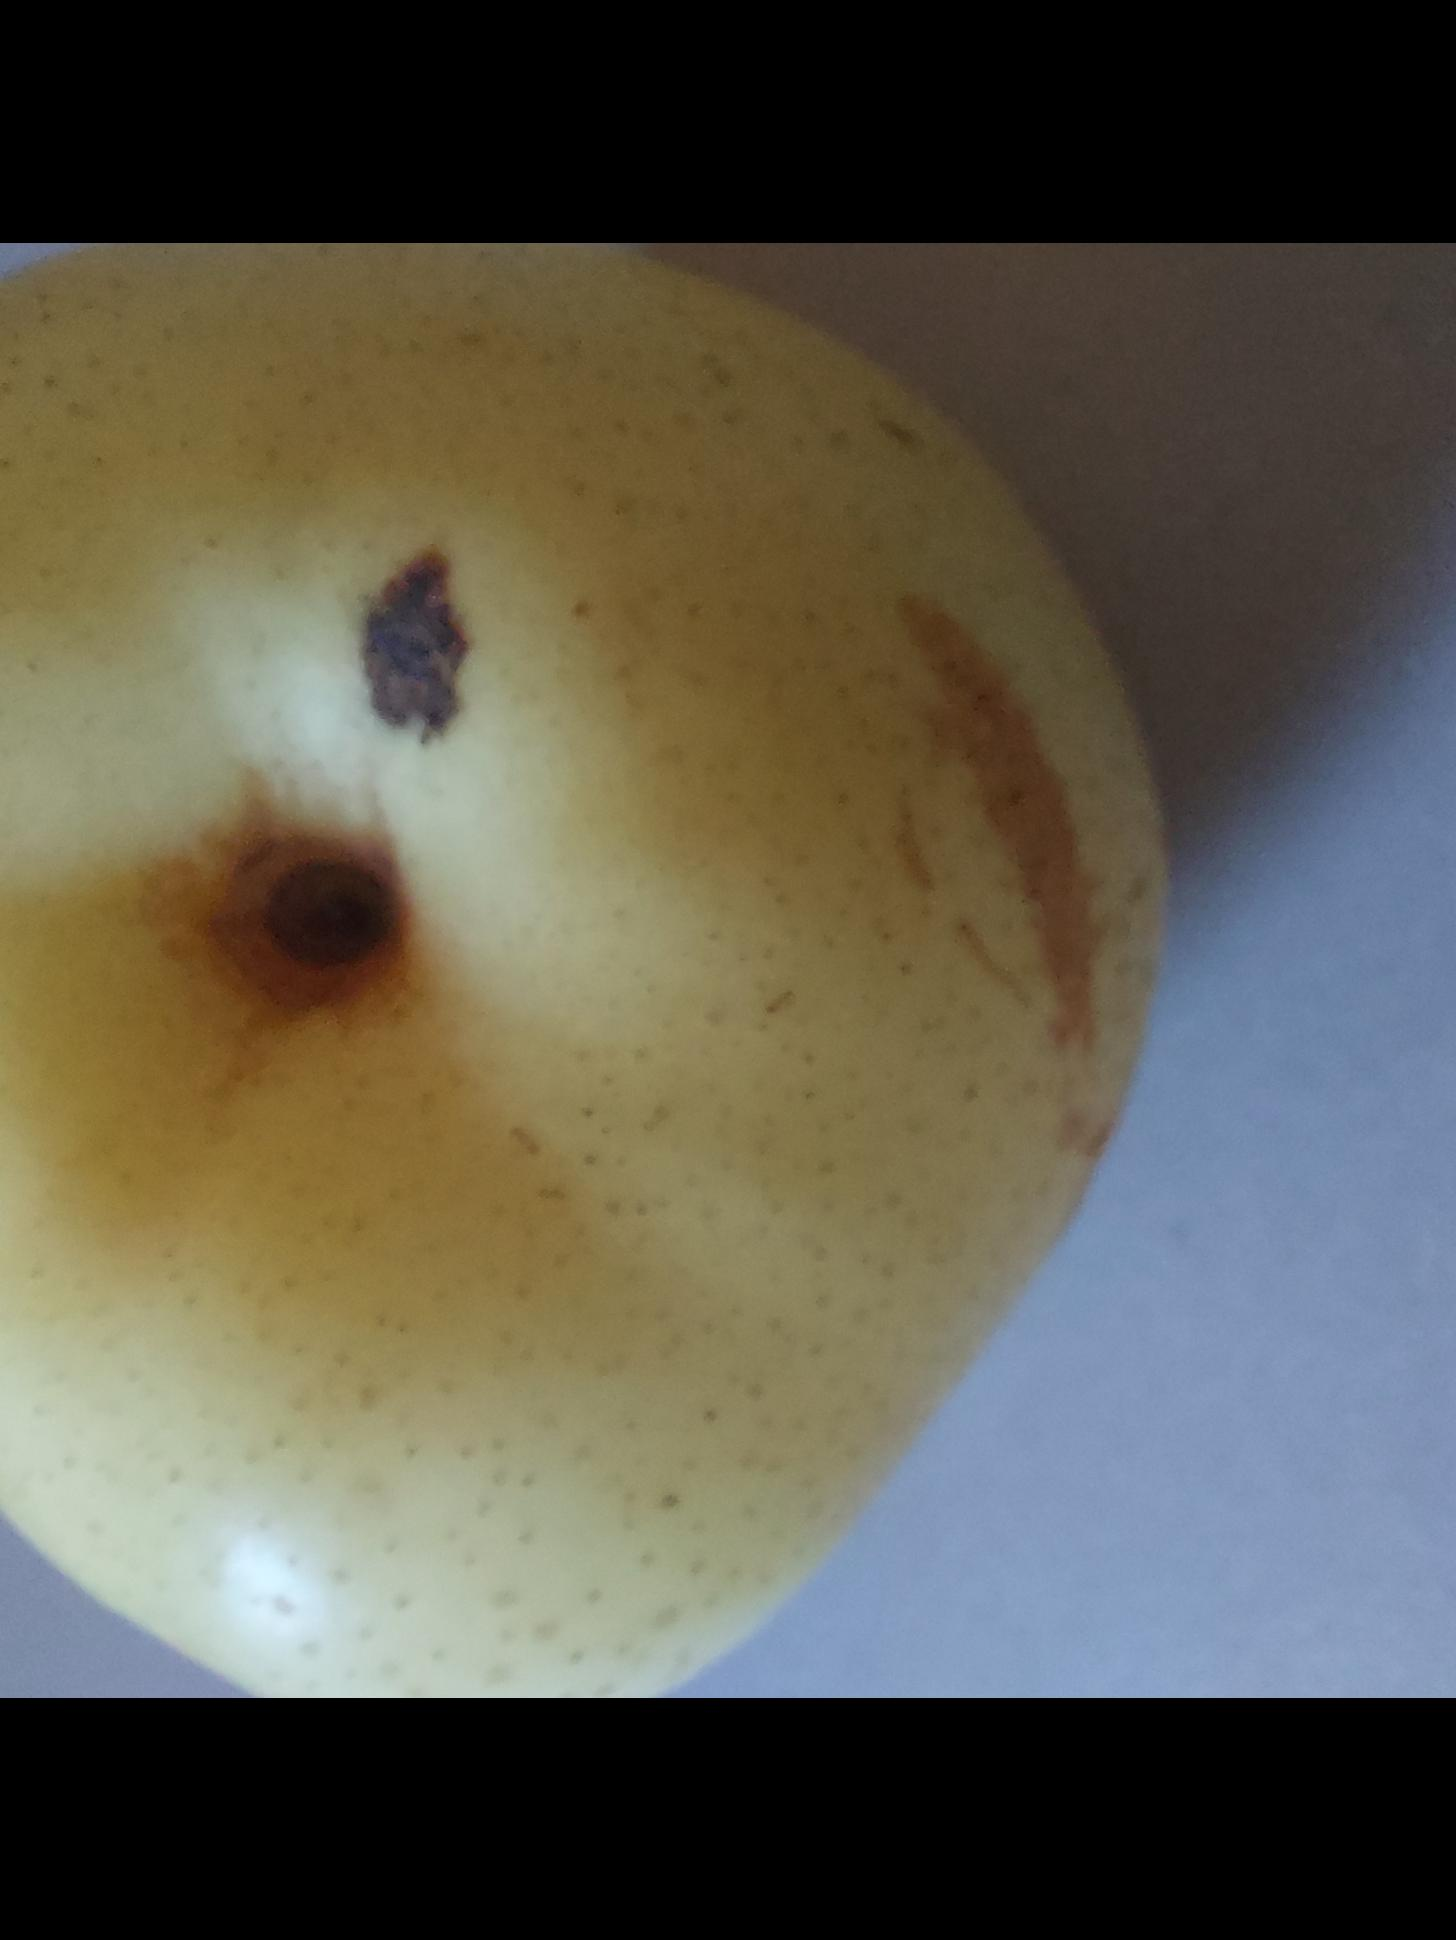Good Pear: (0, 242, 1246, 1698)
